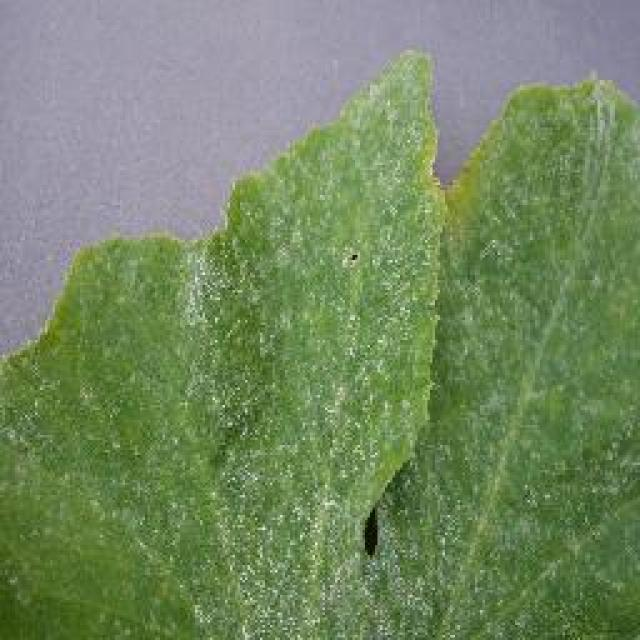Squ_Powdery_mildew: (138, 246, 544, 613)
